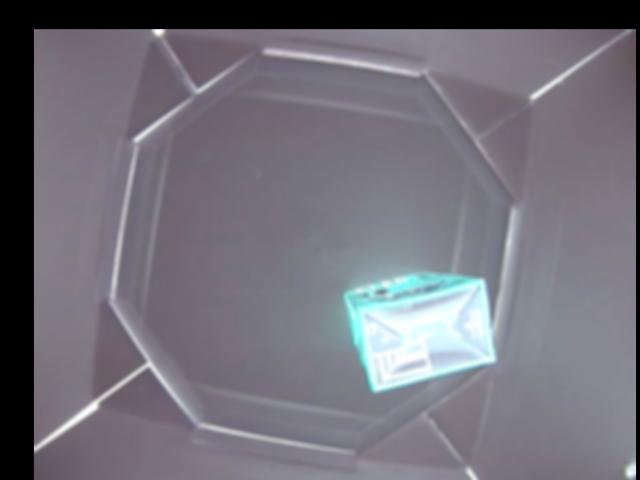Bottle: (345, 270, 497, 390)
